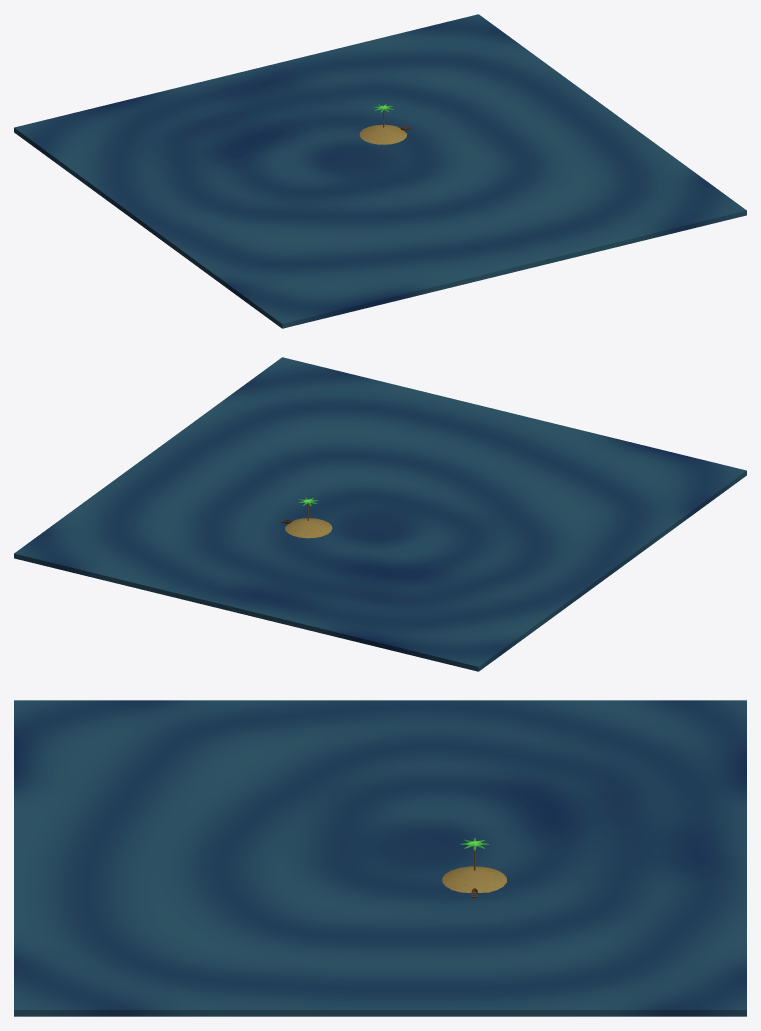
The model's file is Island2.obj.
3 views of the same model, one above another, from view 1: azimuth 30°, elevation 25°; view 2: azimuth 150°, elevation 25°; view 3: azimuth 270°, elevation 25° (orthographic). The views are drawn at different scales.
Visible parts, largest first — view 1: Water_Insel.003; view 2: Water_Insel.003; view 3: Water_Insel.003.
Boxes of the visible parts, box(x1,y1,x2,y2) form: Water_Insel.003: box(14, 14, 746, 328); Water_Insel.003: box(14, 357, 746, 671); Water_Insel.003: box(14, 700, 746, 1016).
Size of the model in its own units: 171 by 11.61 by 171.
Materials: 3 (3 with a texture image).
